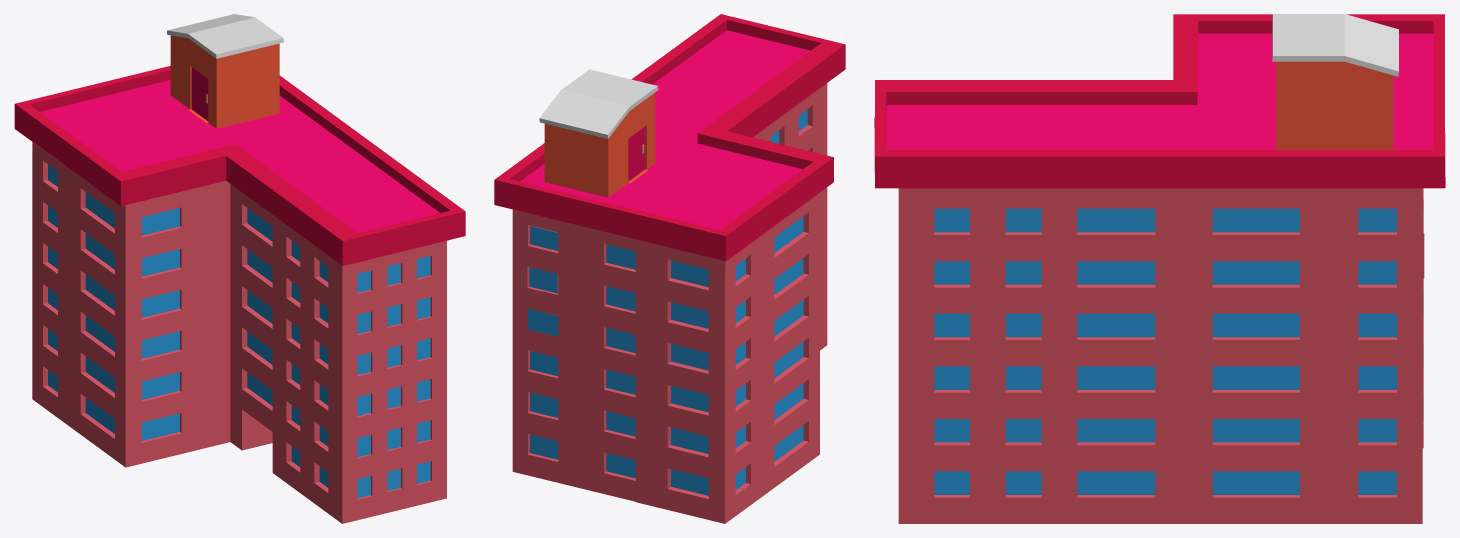
Rendered from building_red.fbx.
The picture shows the model from 3 angles, left to right: view 1: azimuth 30°, elevation 25°; view 2: azimuth 150°, elevation 25°; view 3: azimuth 270°, elevation 25°; orthographic projection. The views are drawn at different scales.
Parts seen in each view (by area): view 1: building, roop, top_floor.001, glass, top_exit, exit_roof, door; view 2: building, roop, top_floor.001, glass, top_exit, exit_roof, door; view 3: building, glass, roop, top_floor.001, top_exit, exit_roof.
Part boxes in pixels (x1,y1,x2,y2): building: [32, 142, 446, 523]; roop: [14, 66, 465, 265]; top_floor.001: [40, 80, 439, 233]; glass: [48, 164, 430, 498]; top_exit: [170, 35, 279, 128]; exit_roof: [167, 14, 283, 58]; door: [191, 67, 208, 120]; building: [512, 83, 827, 523]; roop: [494, 14, 845, 261]; top_floor.001: [520, 30, 810, 230]; glass: [528, 109, 807, 495]; top_exit: [544, 92, 655, 197]; exit_roof: [539, 69, 658, 138]; door: [628, 127, 645, 181]; building: [898, 188, 1424, 523]; glass: [934, 208, 1396, 494]; roop: [874, 14, 1445, 188]; top_floor.001: [886, 33, 1433, 149]; top_exit: [1276, 61, 1393, 149]; exit_roof: [1272, 14, 1398, 76].
Size of the model in its own units: 6349 by 9495 by 10750.
